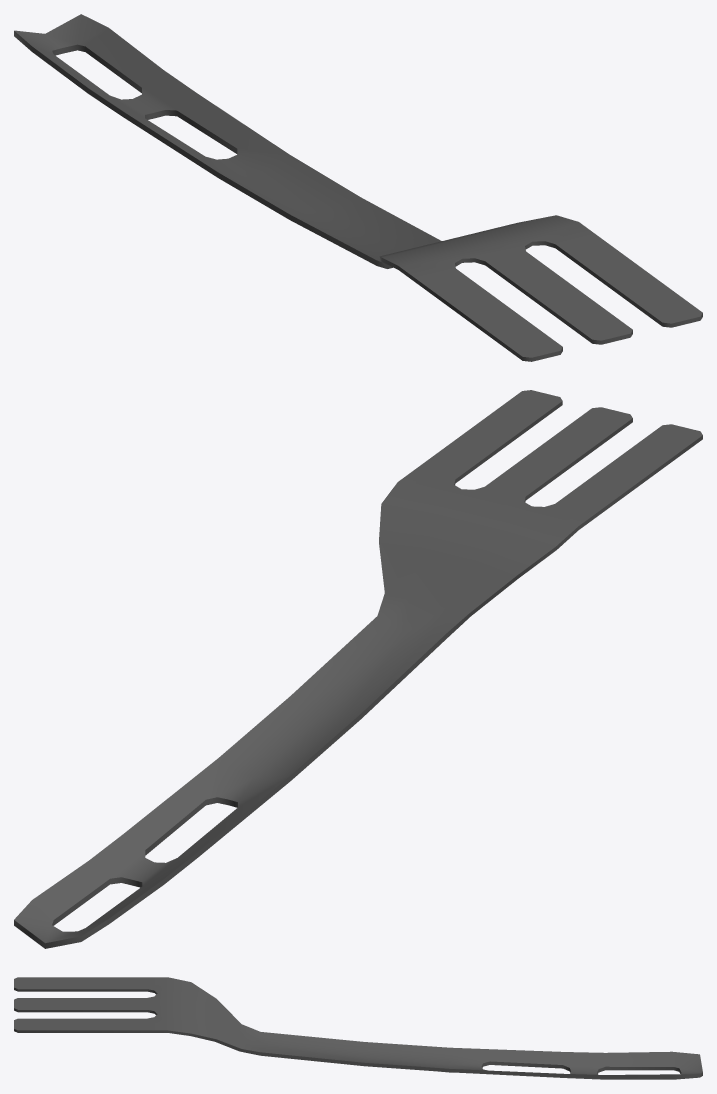
File: nt_2020_art_fork_01_LOD1.obj
The picture shows the model from 3 angles, top to bottom: view 1: azimuth 30°, elevation 25°; view 2: azimuth 150°, elevation 25°; view 3: azimuth 270°, elevation 25°; orthographic projection. The views are drawn at different scales.
Visible parts, largest first — view 1: nt_2020_metal_chrome; view 2: nt_2020_metal_chrome; view 3: nt_2020_metal_chrome.
Part boxes in pixels (x1,y1,x2,y2): nt_2020_metal_chrome: (14, 14, 702, 361); nt_2020_metal_chrome: (14, 390, 702, 948); nt_2020_metal_chrome: (14, 977, 702, 1079).
Size of the model in its own units: 4.03 by 2.58 by 22.08.
